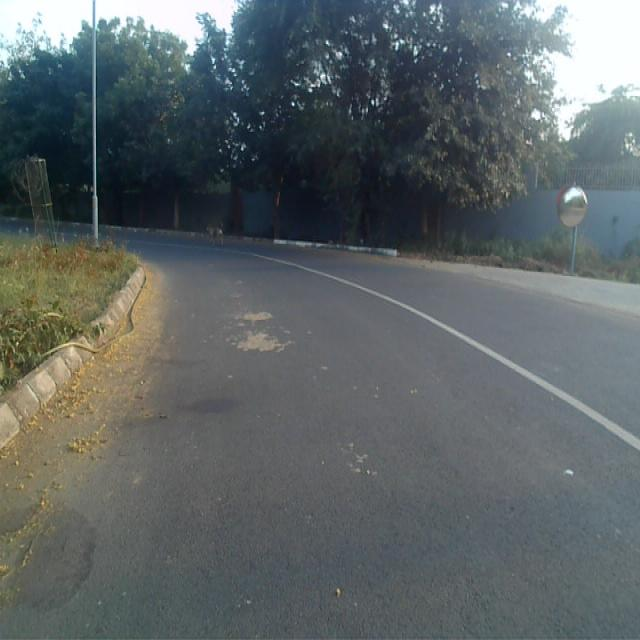lane: (0, 248, 640, 640)
